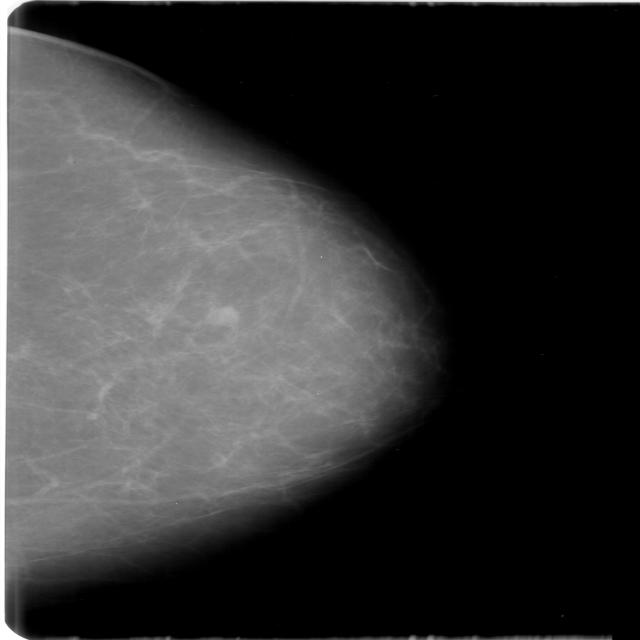normal: (0, 33, 439, 594)
